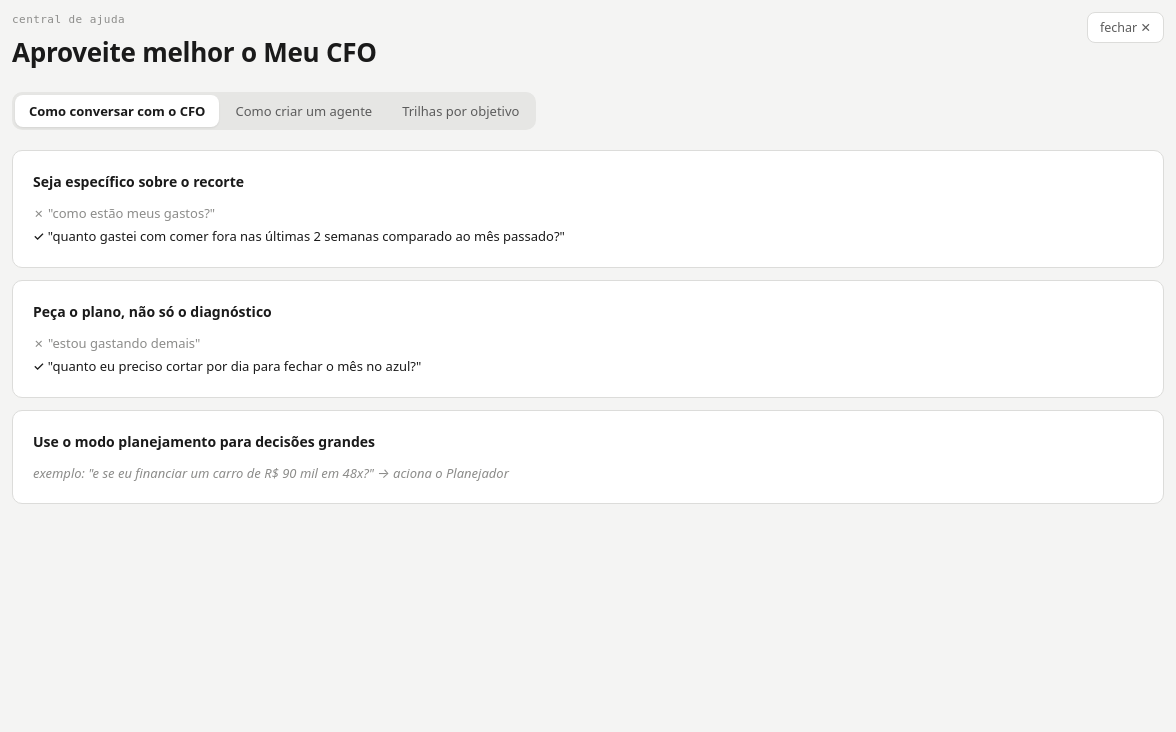
Test: TelaAjuda › troca para a seção "Como criar um agente"
Click the tab "Como criar um agente" at (304, 110), box [221,94,386,126]
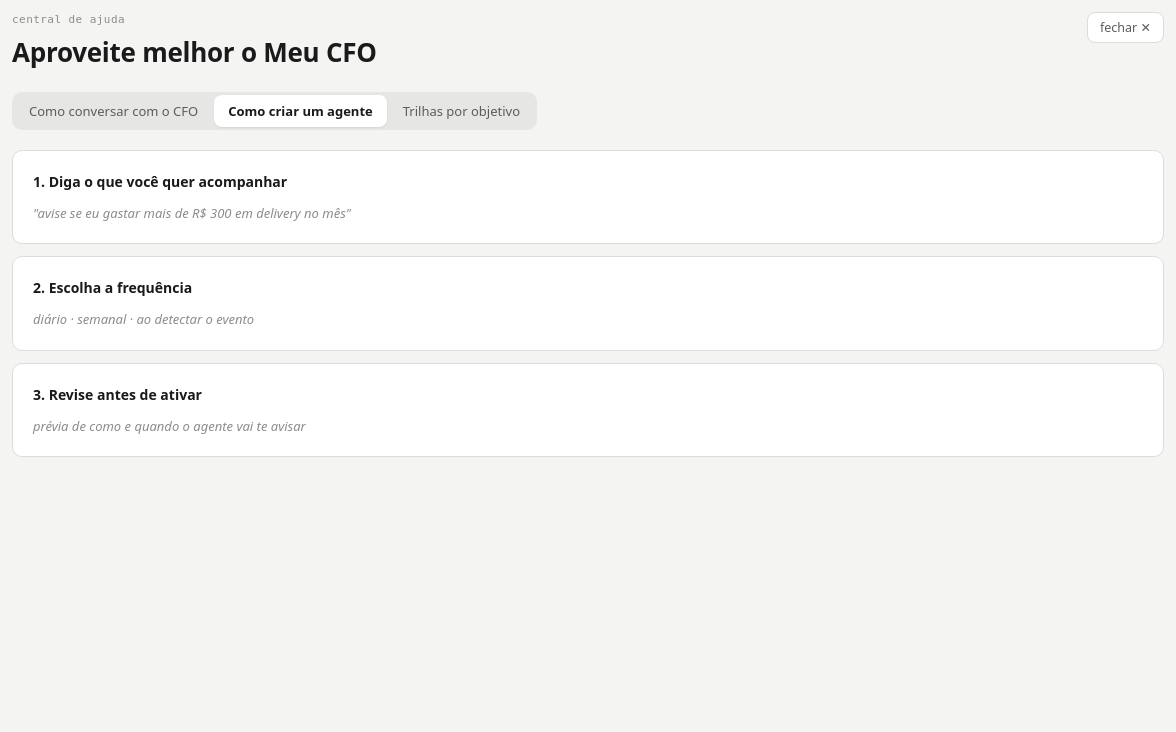
Now the heading "1. Diga o que você quer acompanhar" is shown, box [33,172,287,190]
